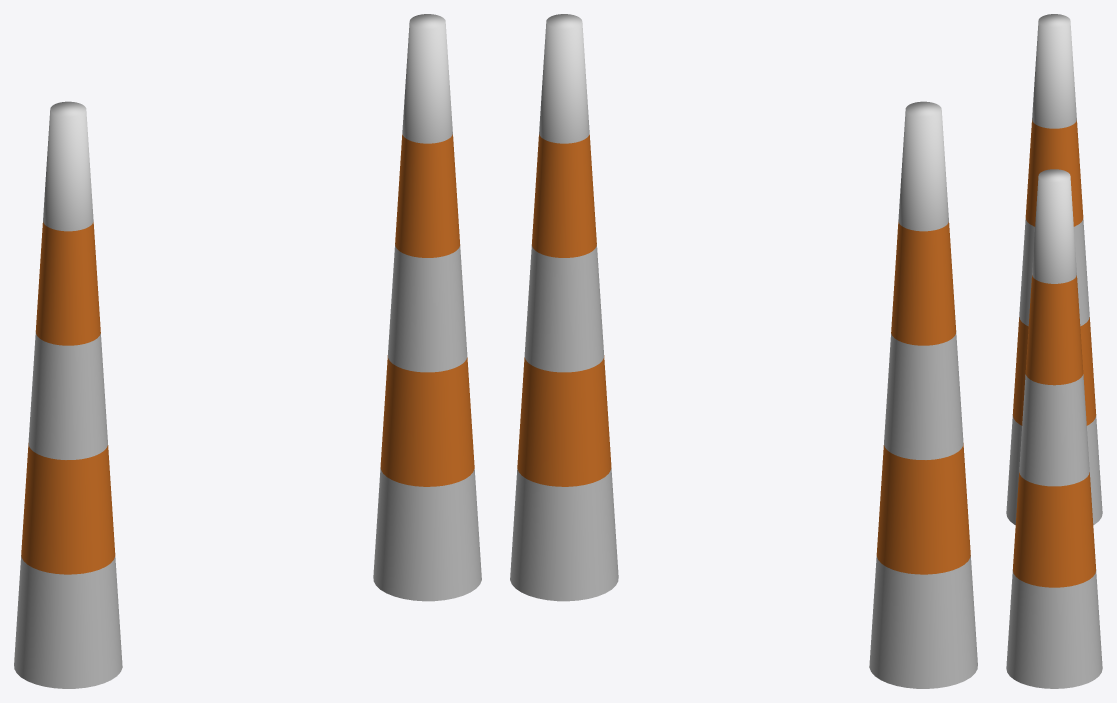
3 renders of one model, left to right at view 1: azimuth 30°, elevation 25°; view 2: azimuth 150°, elevation 25°; view 3: azimuth 270°, elevation 25°, orthographic. The views are drawn at different scales.
Parts seen in each view (by area): view 1: Плоскость; view 2: Плоскость; view 3: Плоскость.
Part boxes in pixels (bbox=[...]): Плоскость: bbox=[14, 14, 481, 688]; Плоскость: bbox=[510, 14, 977, 688]; Плоскость: bbox=[1006, 14, 1102, 688].
Size of the model in its own units: 1682 by 1972 by 349.
